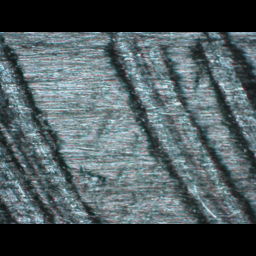d: (91, 33, 255, 221), (0, 36, 103, 222)
